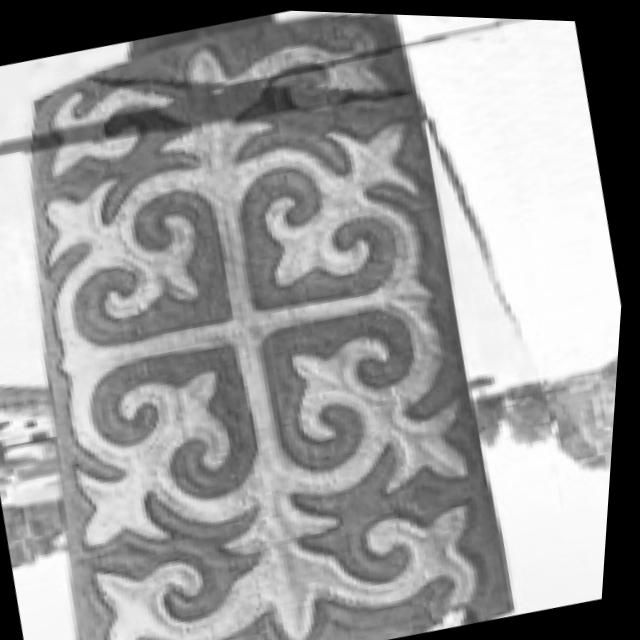Unity: (18, 106, 485, 558)
